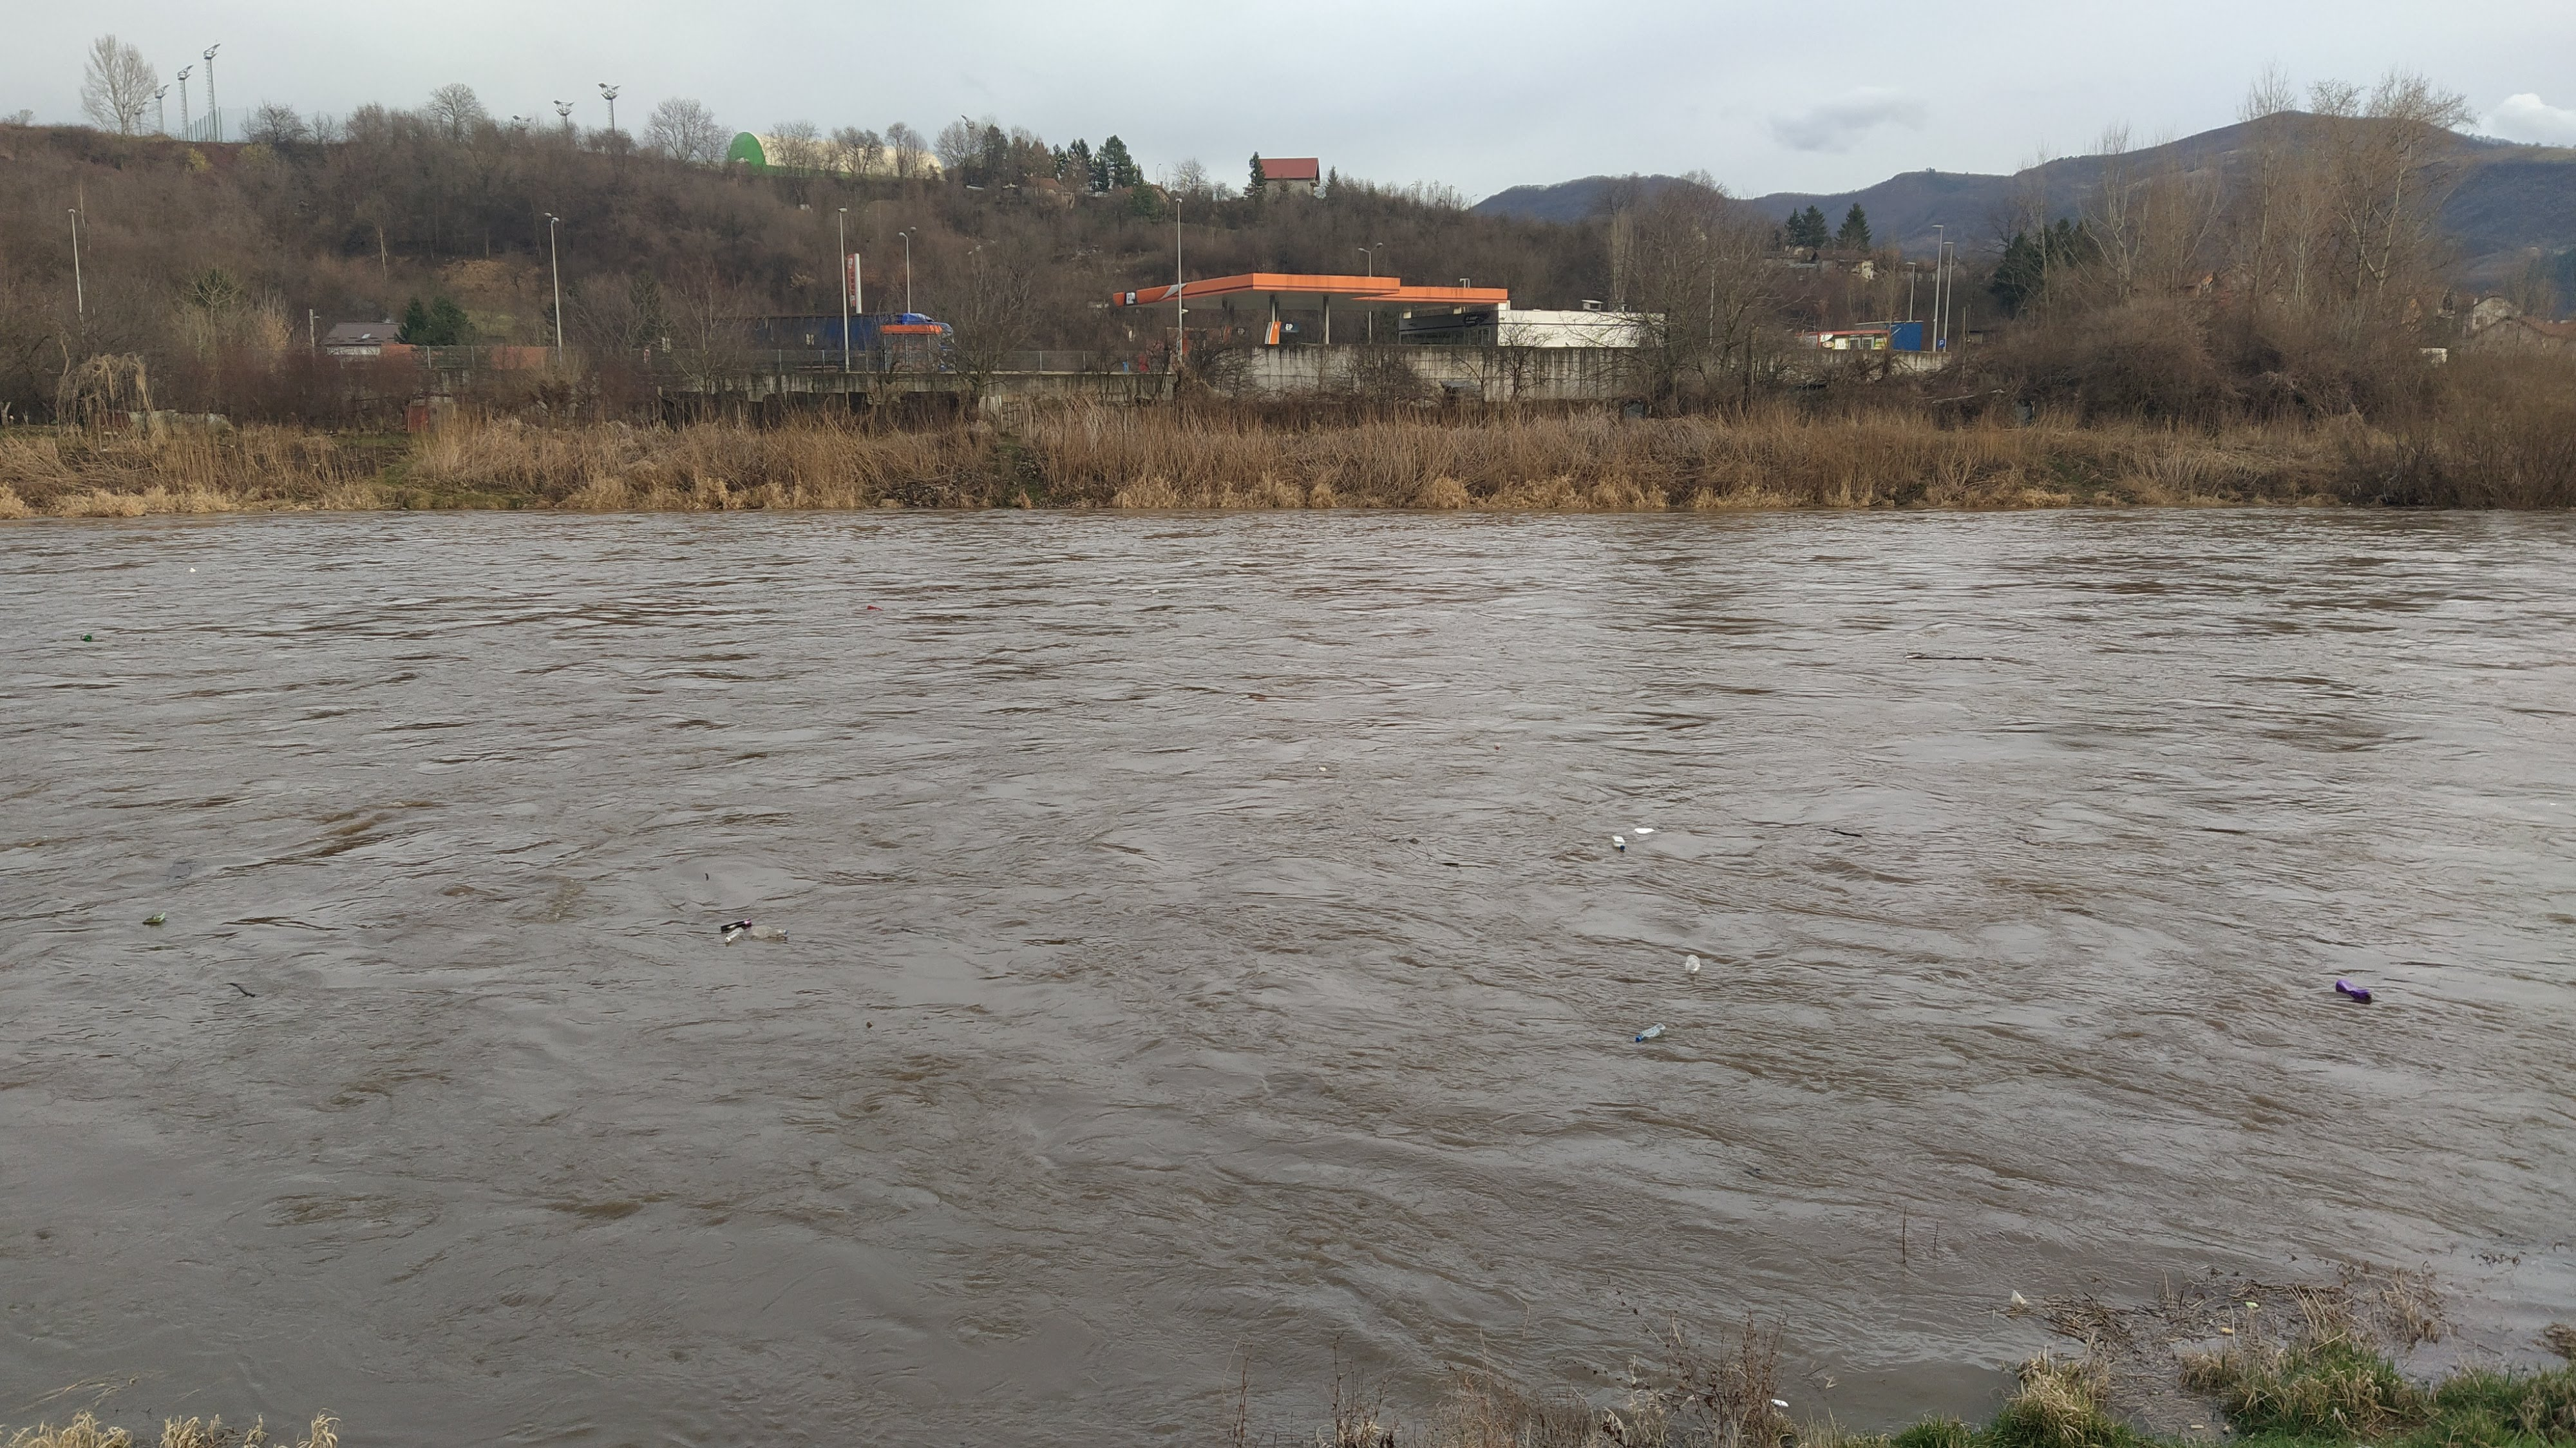Plastic Bottle: (2335, 977, 2373, 1000), (1635, 1023, 1665, 1043), (750, 926, 789, 940), (722, 919, 750, 931), (2010, 1292, 2028, 1310), (1686, 954, 1700, 975), (142, 912, 165, 924), (725, 928, 743, 942), (1612, 836, 1624, 850), (1633, 827, 1654, 834), (80, 634, 90, 641), (867, 605, 881, 611), (1493, 742, 1499, 751), (1150, 589, 1157, 593), (189, 568, 195, 572)
